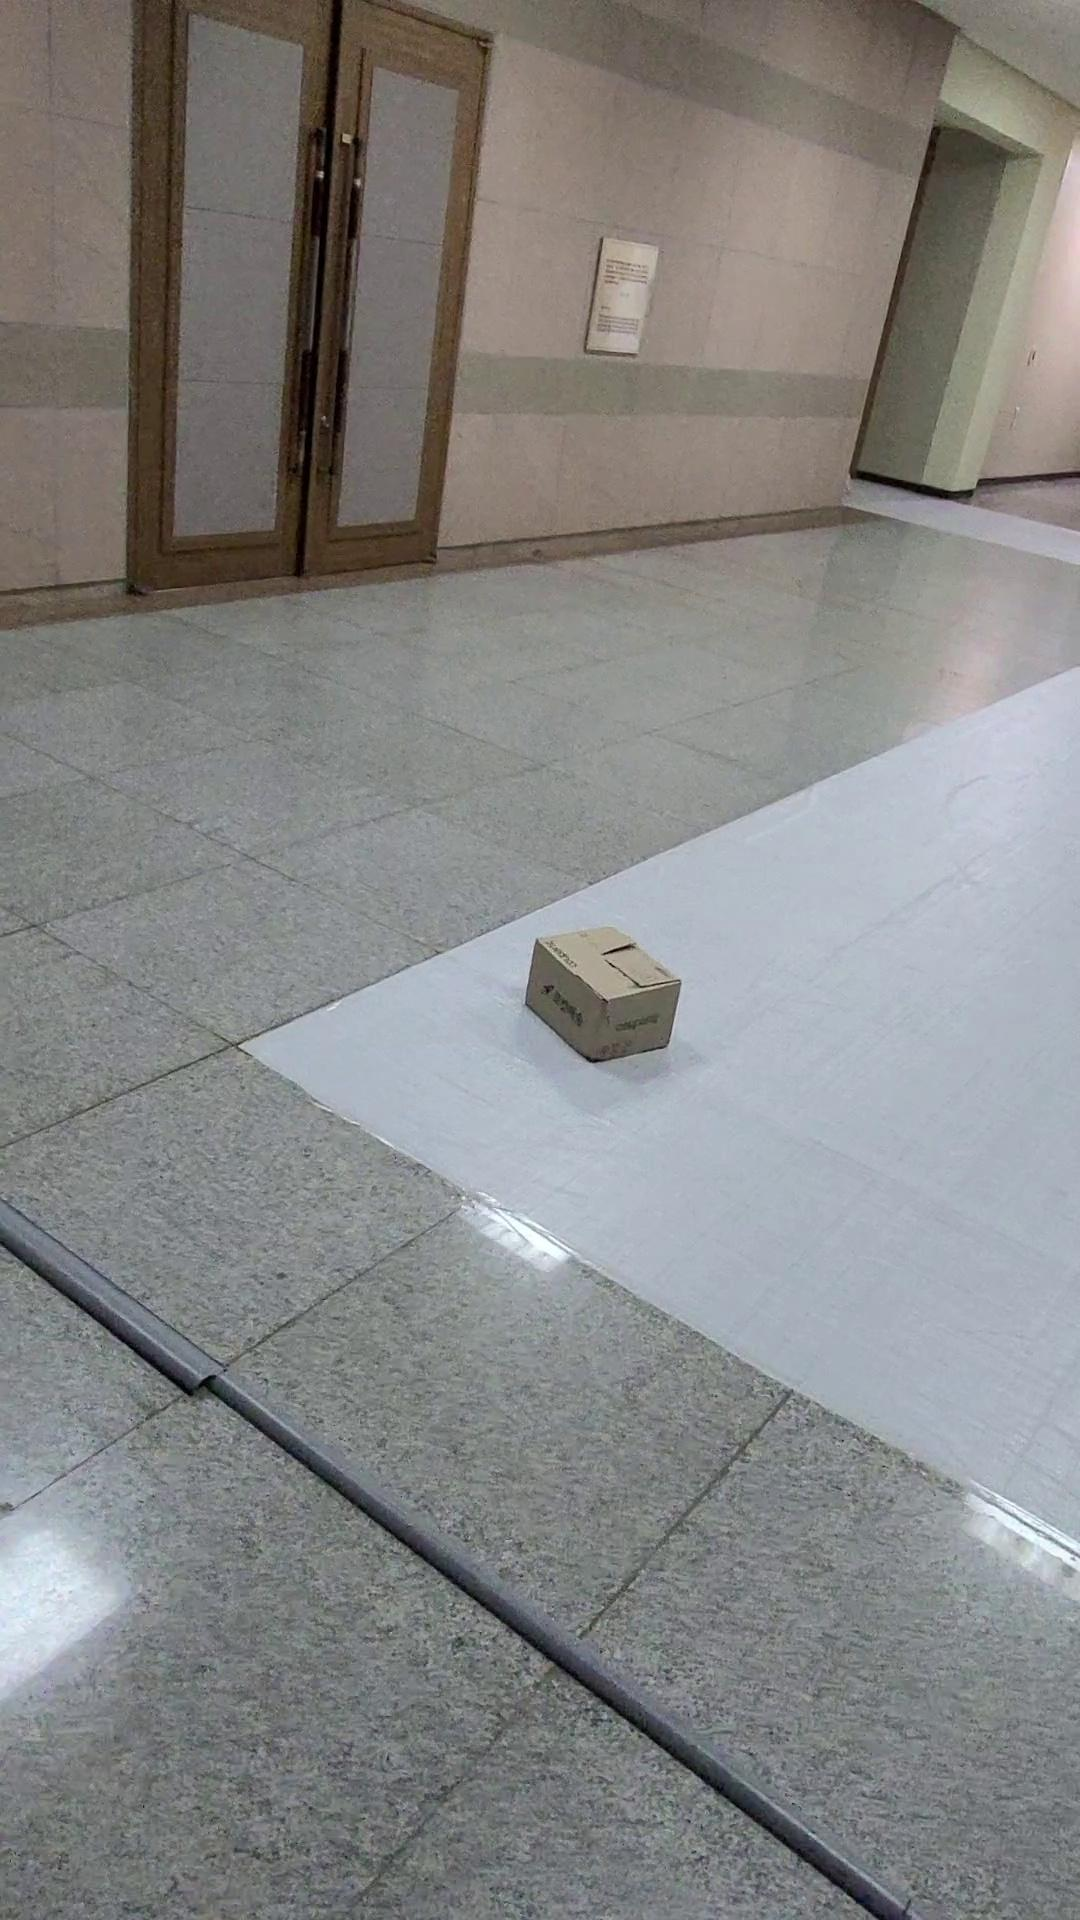Box: (506, 909, 709, 1083)
